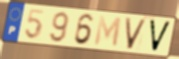5: (23, 8, 46, 42)
6: (73, 13, 95, 47)
9: (48, 11, 71, 44)
M: (93, 15, 123, 49)
V: (148, 19, 173, 54), (124, 17, 149, 51)
